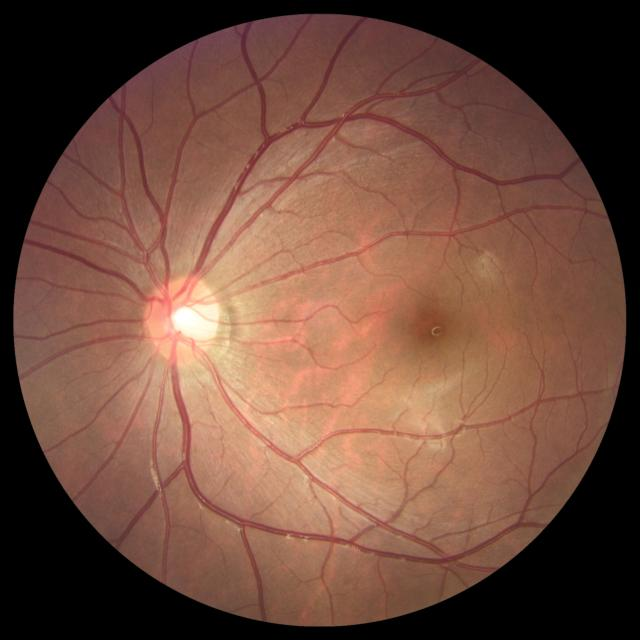OC: (168, 303, 205, 345)
OD: (145, 276, 220, 362)
